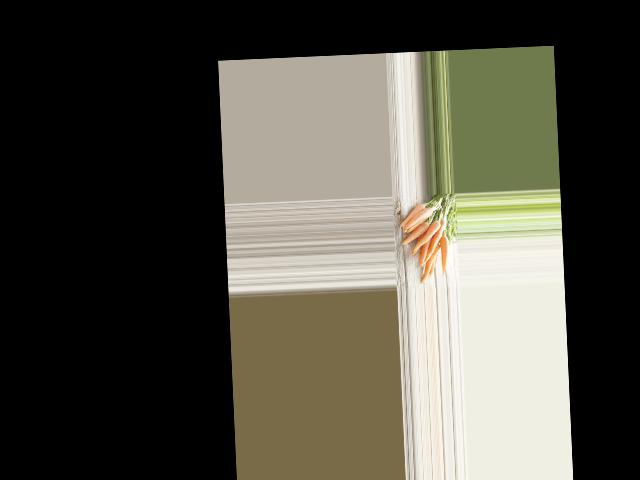carrot: (438, 236, 452, 274)
